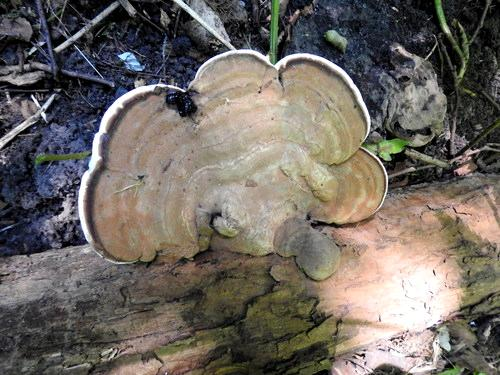Ganoderma - Fruit Body: (75, 48, 390, 273)
